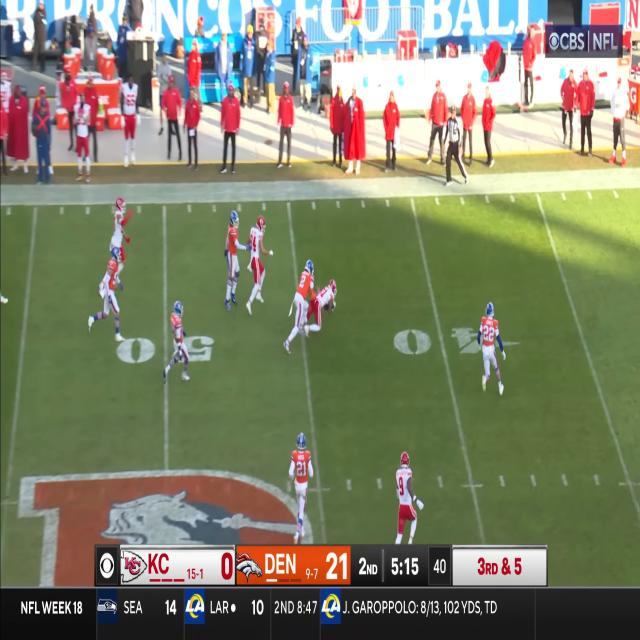Player: (287, 432, 314, 542), (393, 449, 418, 544), (290, 258, 314, 354), (479, 299, 503, 395), (246, 212, 268, 314), (224, 208, 243, 310), (100, 247, 120, 341), (168, 302, 187, 387), (311, 278, 338, 332), (111, 200, 128, 247)
Referee: (444, 104, 466, 184)
